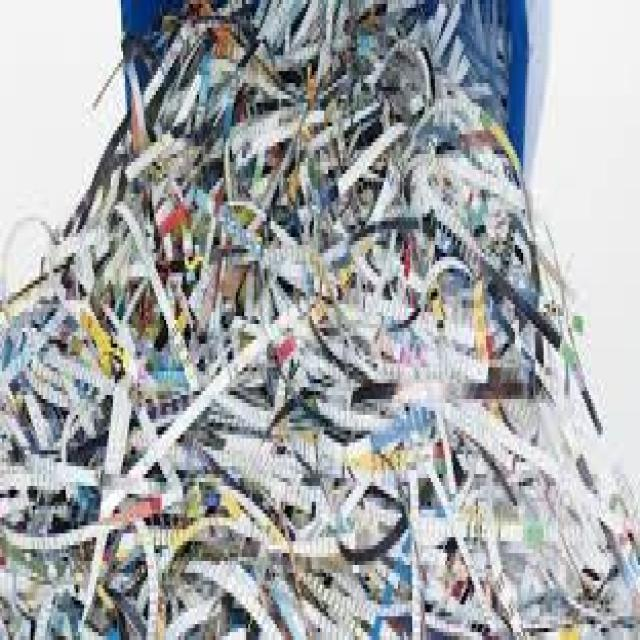paper: (0, 0, 638, 636)
